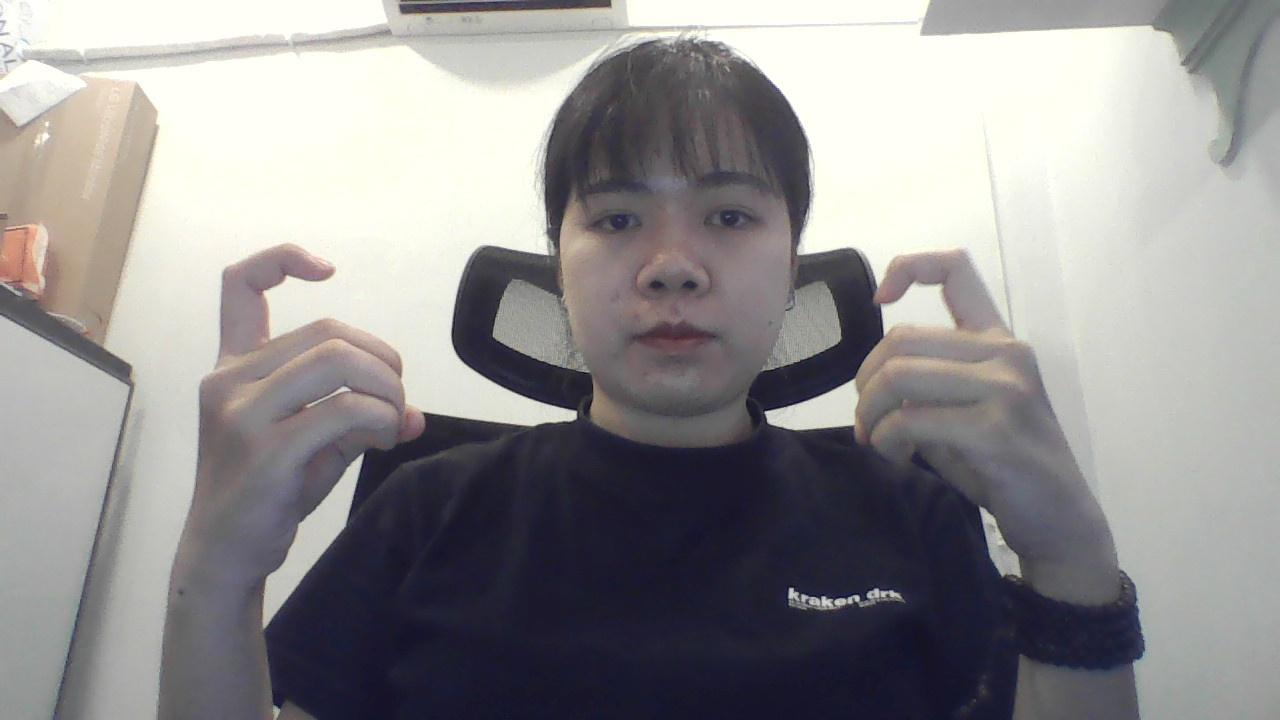D: (154, 219, 439, 603), (850, 236, 1136, 596)
